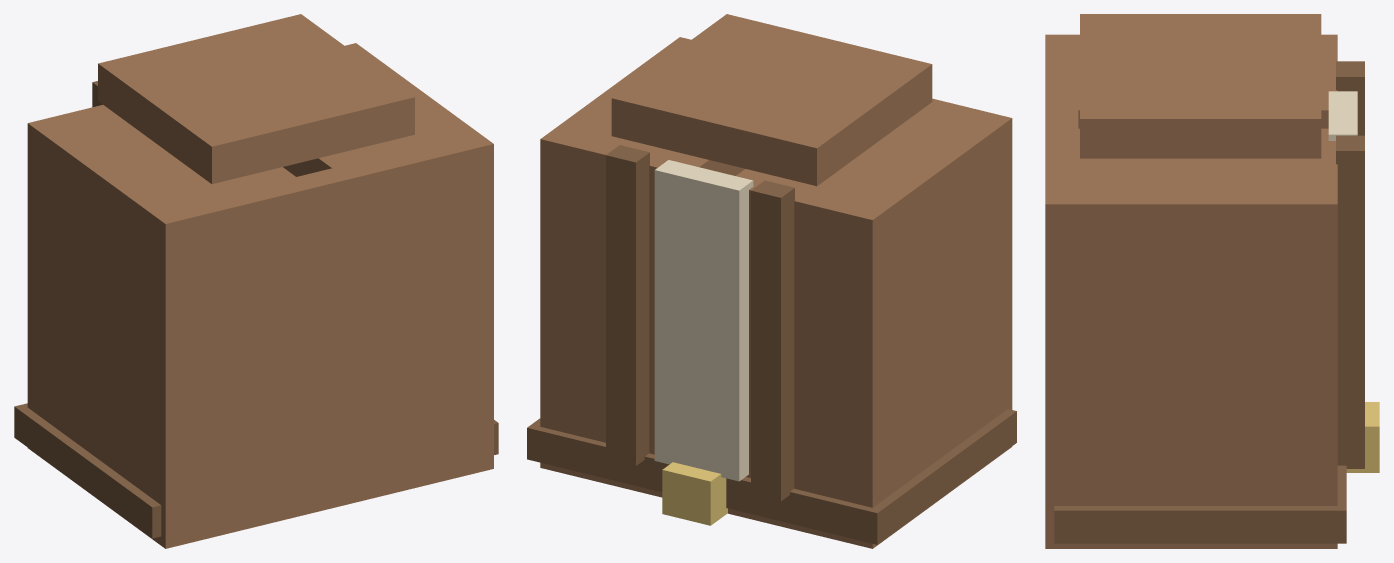
File: cacador_tronco.glb
The picture shows the model from 3 angles, left to right: view 1: azimuth 30°, elevation 25°; view 2: azimuth 150°, elevation 25°; view 3: azimuth 270°, elevation 25°; orthographic projection. The views are drawn at different scales.
Parts seen in each view (by area): view 1: cacador_tronco; view 2: cacador_tronco; view 3: cacador_tronco.
Boxes of the visible parts, <box> form: cacador_tronco: <box>14,14,498,548</box>; cacador_tronco: <box>527,14,1016,548</box>; cacador_tronco: <box>1045,14,1379,548</box>.
Size of the model in its own units: 0.58 by 0.6 by 0.4575.
